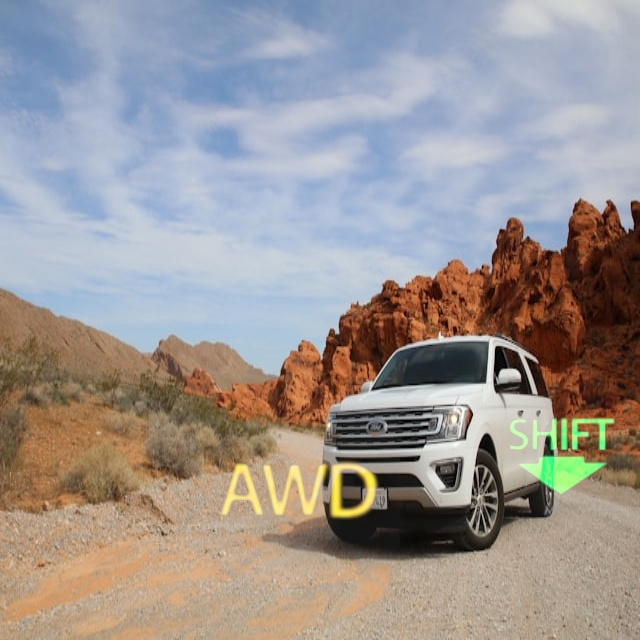symbol: (193, 389, 400, 596), (402, 15, 589, 202), (490, 383, 629, 522)
